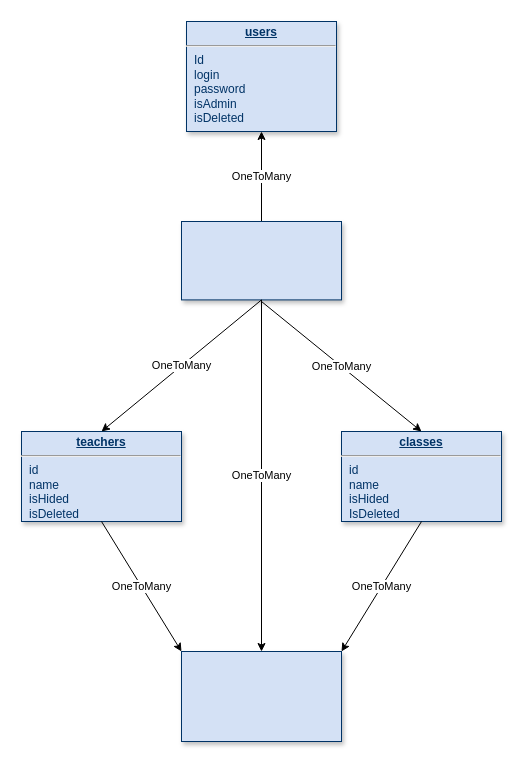
This 525x766 diagram has some shape labels left out. The shapes that lost their labels are listed below. From the top down, each one's centre as x and y in pixels, then its label:
At (262,261): "schools Id name isDeleted".
At (262,697): "lessons id name isHided isDeleted".
